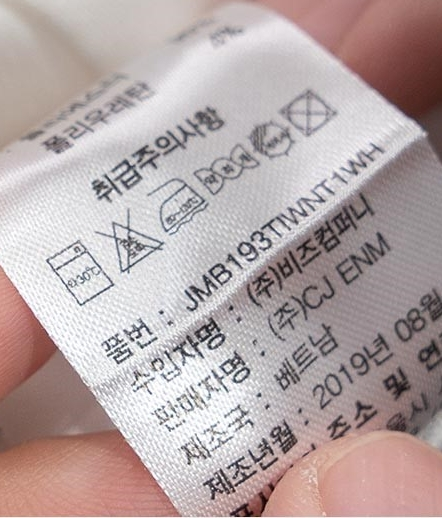KR_flat_dry_in_shade: (244, 110, 303, 168)
KR_gentle_wring: (188, 136, 267, 204)
KR_iron_low_temp_with_cloth: (132, 165, 217, 246)
KR_no_chlorine_bleach: (89, 197, 172, 282)
KR_no_tumble_dry: (273, 82, 345, 144)
KR_wash_warm_30_neutral: (36, 233, 120, 315)
